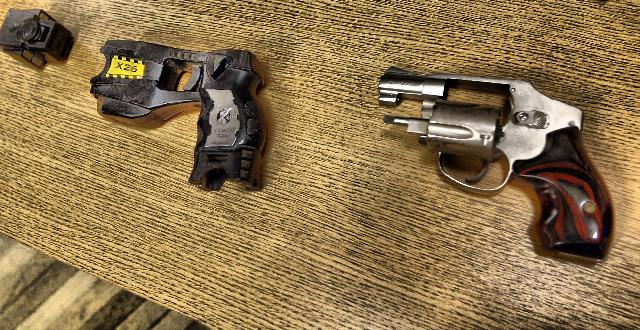pistol: (380, 56, 620, 282)
